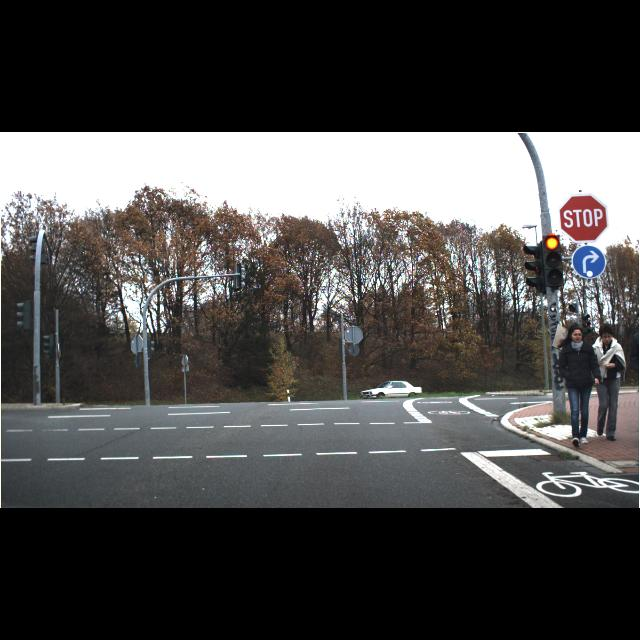mandatory: (572, 246, 606, 278)
other: (558, 194, 610, 242)
